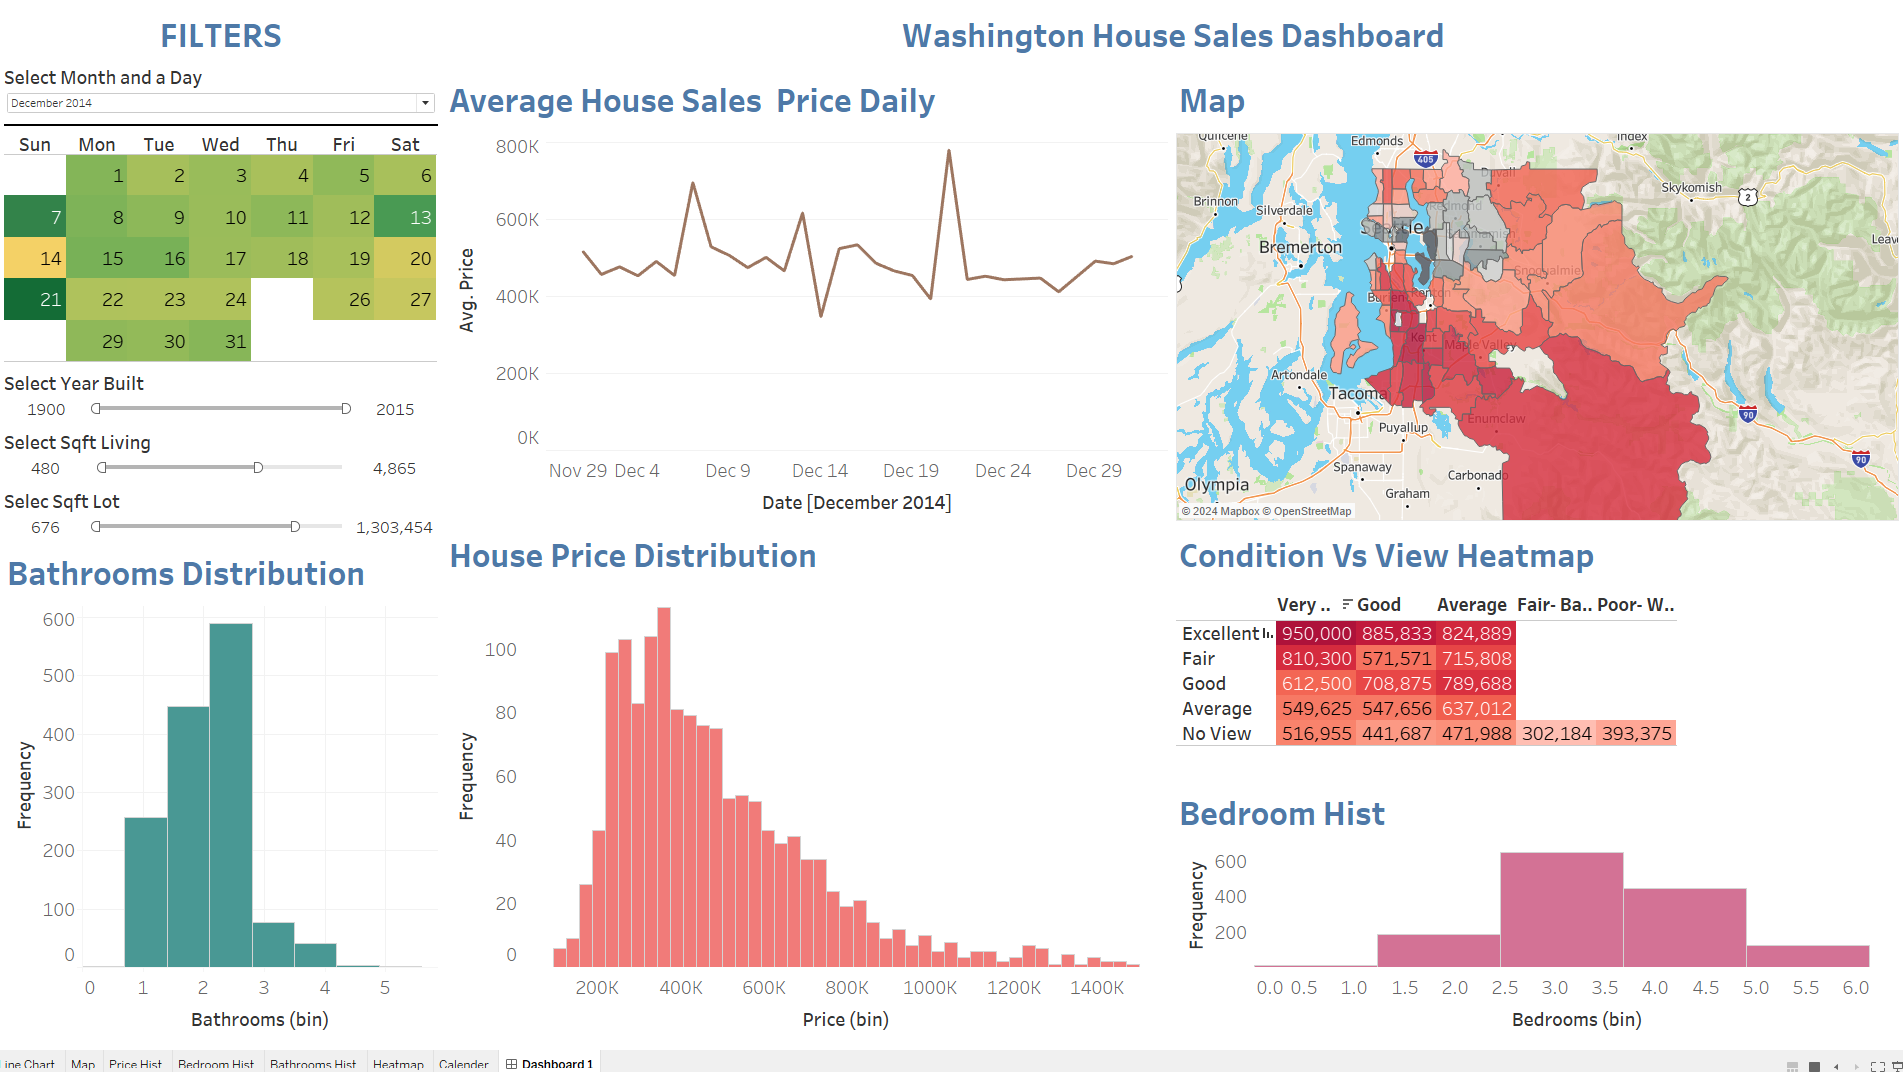

The dashboard page shown, as its layout file describes it:
{"tool":"tableau","page":{"name":"Dashboard 1","canvas":[1000,1000],"units":"permille","ordinal":0},"visuals":[{"type":"text","box":[4.2,9.4,230.2,60.8]},{"type":"text","box":[234.4,9.4,761.3,60.8]},{"type":"filter","title":"Calender","param":"[federated.0av4er91byhyll17sb66815mtorp].[my:date:ok]","box":[4.2,70.2,230.2,70.2]},{"type":"blank","box":[234.4,70.2,761.3,11.7]},{"type":"worksheet","title":"Line Chart","mark":"Automatic","rows":["price"],"cols":["date"],"box":[234.4,81.9,380.1,370.7]},{"type":"worksheet","title":"Map","mark":"Automatic","box":[614.6,81.9,381.2,370.7]},{"type":"blank","box":[4.2,140.4,230.2,11.7]},{"type":"worksheet","title":"Calender","mark":"Square","rows":["date"],"cols":["date"],"box":[4.2,152.1,230.2,276]},{"type":"filter","title":"Calender","param":"[federated.0av4er91byhyll17sb66815mtorp].[none:yr_built:qk]","box":[4.2,428.1,230.2,69]},{"type":"worksheet","title":"Price Hist","mark":"Automatic","rows":["price"],"cols":["Price (bin)"],"box":[234.4,452.6,380.3,538]},{"type":"worksheet","title":"Heatmap","mark":"Square","rows":["view"],"cols":["condition"],"box":[614.7,452.6,381,265.5]},{"type":"filter","title":"Calender","param":"[federated.0av4er91byhyll17sb66815mtorp].[none:sqft_living:qk]","box":[4.2,497.1,230.2,69]},{"type":"filter","title":"Calender","param":"[federated.0av4er91byhyll17sb66815mtorp].[none:sqft_lot:qk]","box":[4.2,566.1,230.2,69]},{"type":"worksheet","title":"Bathrooms Hist","mark":"Automatic","rows":["bathrooms"],"cols":["Bathrooms (bin)"],"box":[4.2,635.1,230.2,355.5]},{"type":"worksheet","title":"Bedroom Hist","mark":"Automatic","rows":["bedrooms"],"cols":["Bedrooms (bin)"],"box":[614.7,718.1,381,272.5]}]}

Visuals, with their boxes on the dashboard's canvas, which has no fixed pixel size, in thousandths of its width and height (x1, y1, x2, y2). These are canvas units, not pixel positions in the 1903x1072 screenshot, which may show the page scaled, cropped or inside an application window:
text: bbox=[4, 9, 234, 70]
text: bbox=[234, 9, 996, 70]
"Calender" filter: bbox=[4, 70, 234, 140]
blank: bbox=[234, 70, 996, 82]
"Line Chart" worksheet: bbox=[234, 82, 614, 453]
"Map" worksheet: bbox=[615, 82, 996, 453]
blank: bbox=[4, 140, 234, 152]
"Calender" worksheet (Square marks): bbox=[4, 152, 234, 428]
"Calender" filter: bbox=[4, 428, 234, 497]
"Price Hist" worksheet: bbox=[234, 453, 615, 991]
"Heatmap" worksheet (Square marks): bbox=[615, 453, 996, 718]
"Calender" filter: bbox=[4, 497, 234, 566]
"Calender" filter: bbox=[4, 566, 234, 635]
"Bathrooms Hist" worksheet: bbox=[4, 635, 234, 991]
"Bedroom Hist" worksheet: bbox=[615, 718, 996, 991]
